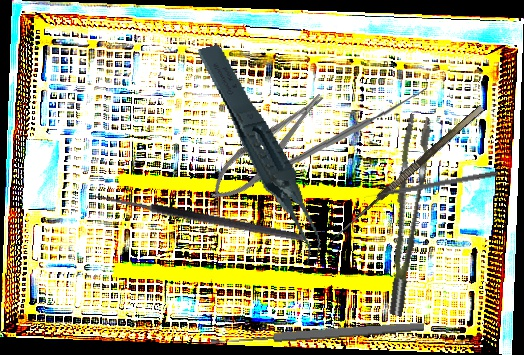Hook Surgical: (328, 104, 492, 251), (255, 72, 427, 190), (86, 190, 305, 253)
Needle Holder: (201, 83, 335, 211)
Pusher: (363, 169, 499, 200)
Surgical Spoon: (210, 320, 425, 348)
Tissue Forceps: (196, 32, 325, 278), (362, 113, 450, 317)
